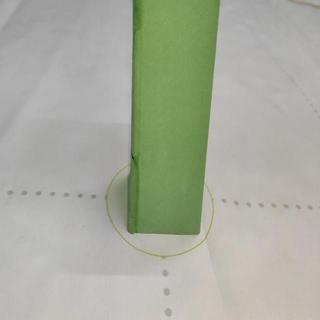greenbox: (131, 0, 202, 233)
